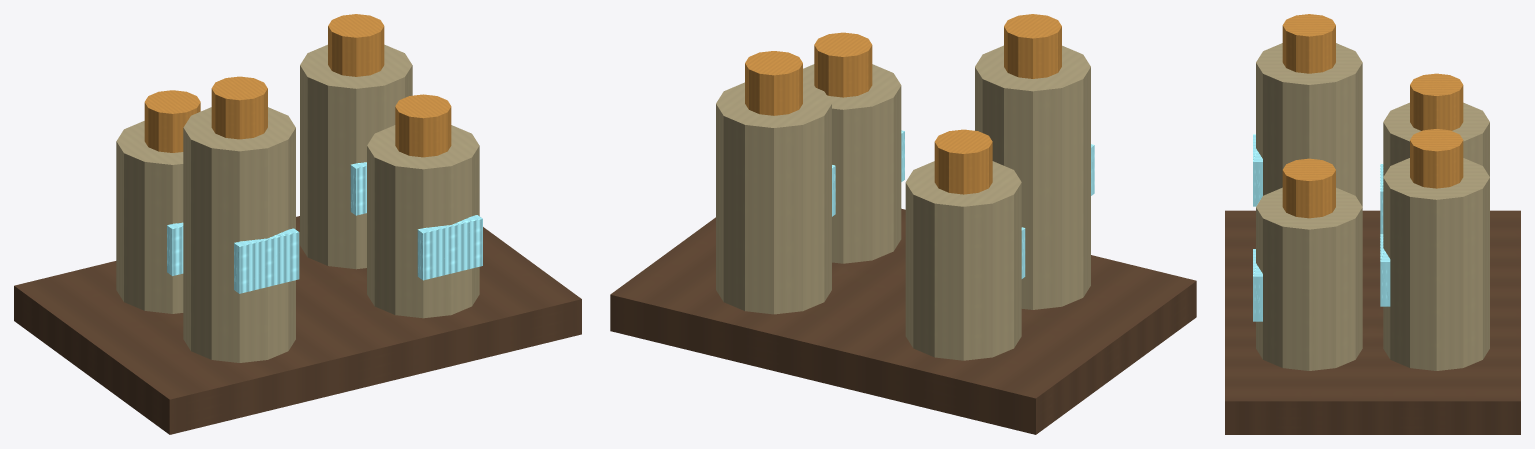
Rendered from atlas100-s011-a04.glb.
The picture shows the model from 3 angles, left to right: view 1: azimuth 30°, elevation 25°; view 2: azimuth 150°, elevation 25°; view 3: azimuth 270°, elevation 25°; orthographic projection. The views are drawn at different scales.
Visible parts, largest first — view 1: atlas100-s011-a04:part-000, atlas100-s011-a04:part-007, atlas100-s011-a04:part-010, atlas100-s011-a04:part-004, atlas100-s011-a04:part-001, atlas100-s011-a04:part-009, atlas100-s011-a04:part-012, atlas100-s011-a04:part-008, atlas100-s011-a04:part-011, atlas100-s011-a04:part-005, atlas100-s011-a04:part-002, atlas100-s011-a04:part-003 (+1 smaller); view 2: atlas100-s011-a04:part-000, atlas100-s011-a04:part-004, atlas100-s011-a04:part-007, atlas100-s011-a04:part-001, atlas100-s011-a04:part-010, atlas100-s011-a04:part-002, atlas100-s011-a04:part-011, atlas100-s011-a04:part-008, atlas100-s011-a04:part-005; view 3: atlas100-s011-a04:part-000, atlas100-s011-a04:part-004, atlas100-s011-a04:part-010, atlas100-s011-a04:part-007, atlas100-s011-a04:part-001, atlas100-s011-a04:part-008, atlas100-s011-a04:part-005, atlas100-s011-a04:part-011, atlas100-s011-a04:part-002, atlas100-s011-a04:part-006, atlas100-s011-a04:part-012, atlas100-s011-a04:part-009.
Part boxes in pixels (x1,y1,x2,y2): atlas100-s011-a04:part-000: [14, 216, 581, 434]; atlas100-s011-a04:part-007: [183, 107, 295, 362]; atlas100-s011-a04:part-010: [367, 125, 479, 318]; atlas100-s011-a04:part-004: [300, 44, 412, 269]; atlas100-s011-a04:part-001: [116, 121, 183, 313]; atlas100-s011-a04:part-009: [234, 228, 299, 293]; atlas100-s011-a04:part-012: [417, 215, 482, 280]; atlas100-s011-a04:part-008: [211, 76, 267, 139]; atlas100-s011-a04:part-011: [395, 94, 451, 157]; atlas100-s011-a04:part-005: [328, 14, 384, 76]; atlas100-s011-a04:part-002: [144, 90, 200, 152]; atlas100-s011-a04:part-003: [167, 222, 183, 275]; atlas100-s011-a04:part-000: [610, 208, 1196, 434]; atlas100-s011-a04:part-004: [716, 82, 831, 314]; atlas100-s011-a04:part-007: [975, 45, 1090, 309]; atlas100-s011-a04:part-001: [905, 161, 1021, 360]; atlas100-s011-a04:part-010: [803, 64, 901, 263]; atlas100-s011-a04:part-002: [934, 129, 992, 194]; atlas100-s011-a04:part-011: [814, 32, 872, 97]; atlas100-s011-a04:part-008: [1004, 14, 1061, 78]; atlas100-s011-a04:part-005: [745, 51, 802, 115]; atlas100-s011-a04:part-000: [1225, 210, 1520, 434]; atlas100-s011-a04:part-004: [1383, 158, 1489, 370]; atlas100-s011-a04:part-010: [1256, 187, 1362, 370]; atlas100-s011-a04:part-007: [1256, 43, 1362, 206]; atlas100-s011-a04:part-001: [1383, 102, 1489, 176]; atlas100-s011-a04:part-008: [1282, 14, 1335, 73]; atlas100-s011-a04:part-005: [1410, 129, 1463, 188]; atlas100-s011-a04:part-011: [1282, 158, 1335, 218]; atlas100-s011-a04:part-002: [1410, 73, 1463, 130]; atlas100-s011-a04:part-006: [1380, 234, 1390, 306]; atlas100-s011-a04:part-012: [1253, 249, 1262, 321]; atlas100-s011-a04:part-009: [1253, 134, 1262, 206].
Bounding box in the file's own units: 1.18 × 0.7804 × 0.7697.
4 materials, 4 textured.
